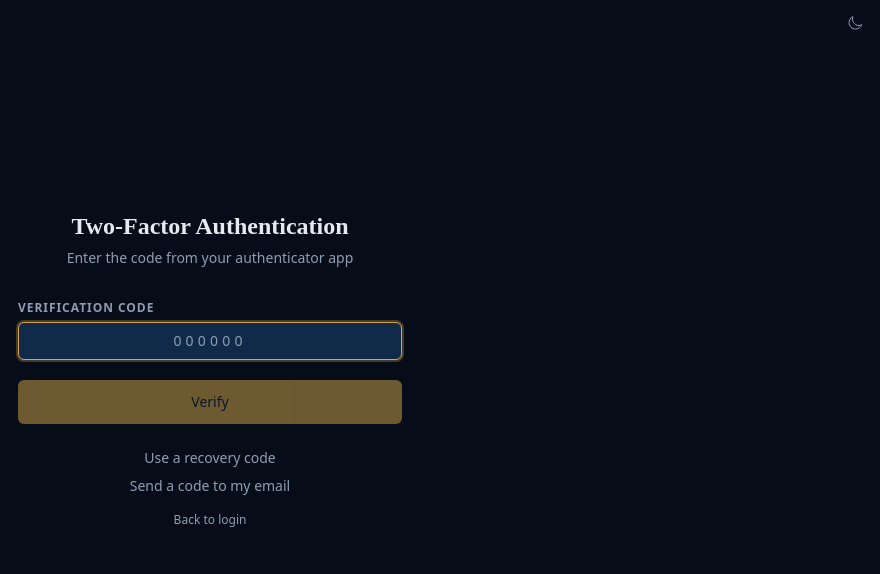
mfa-verify page, challenge token (FE-03, TBD-654) › uses the sessionStorage token even when the URL carries another
Type "123456" into the field labelled "Verification Code".
click(210, 341); type("123456")  # box top-left (18, 322), bottom-right (402, 360)
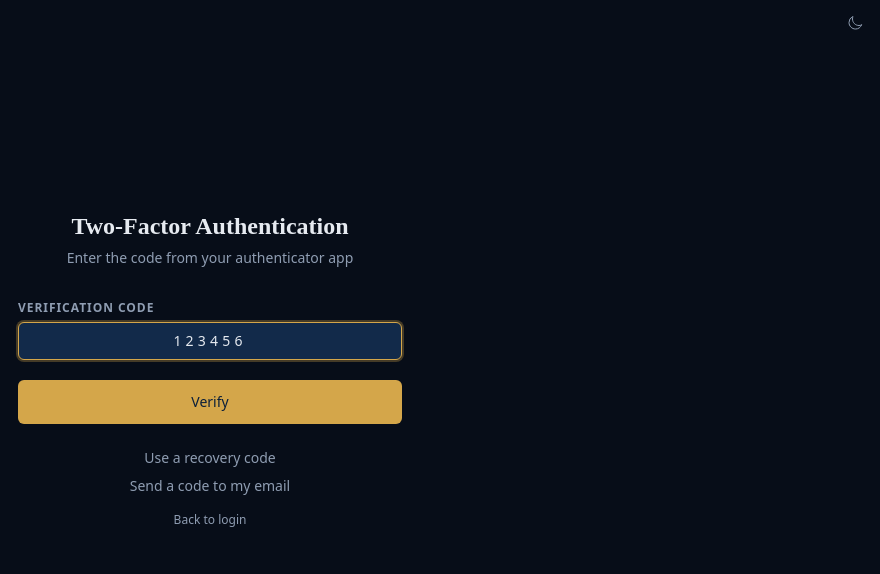
Click the button "Verify".
click(210, 402)  # box top-left (18, 380), bottom-right (402, 424)
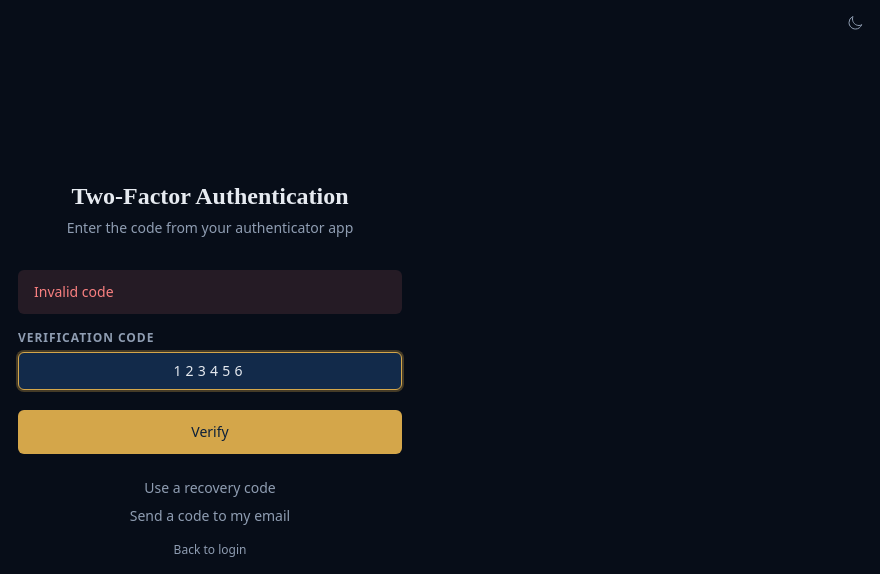
Expected: the text "Invalid code" is shown, top-left (18, 270), bottom-right (402, 314)
